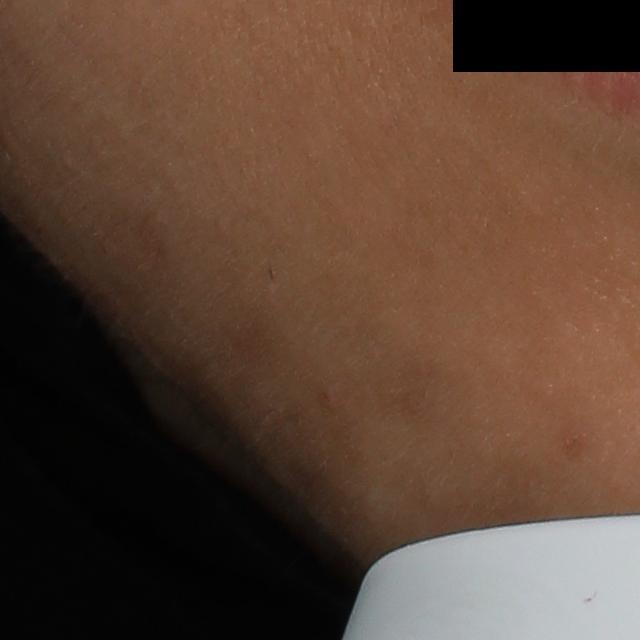papule: (316, 386, 343, 414)
